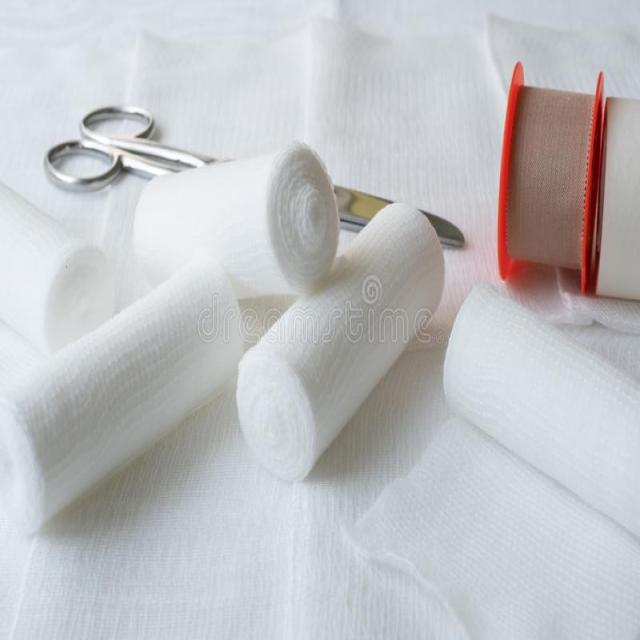B3: (125, 146, 344, 305)
